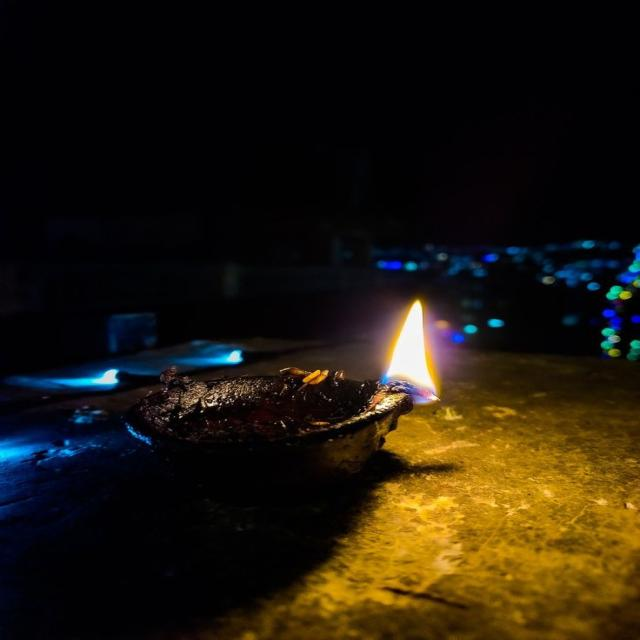fire: (381, 300, 437, 401)
